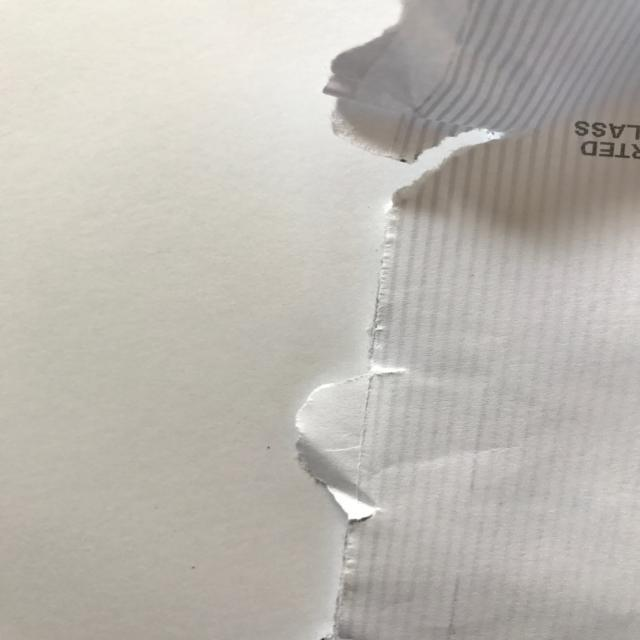paper: (296, 0, 640, 640)
